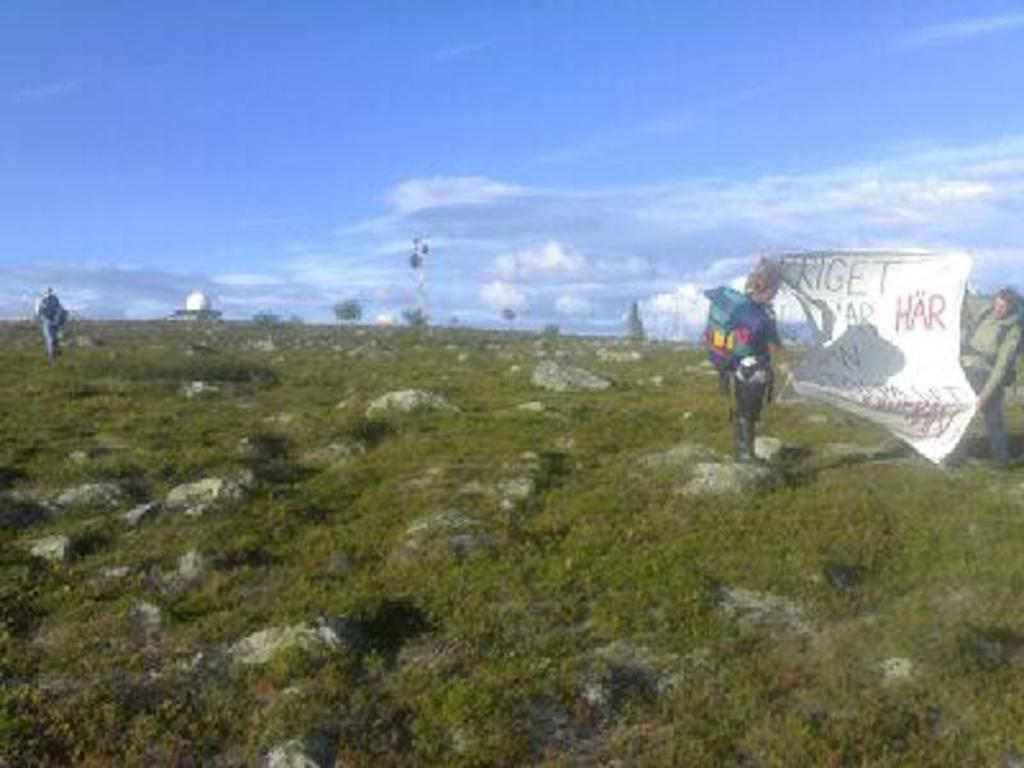Person: (958, 290, 1024, 475), (728, 257, 784, 466), (32, 281, 67, 366)
